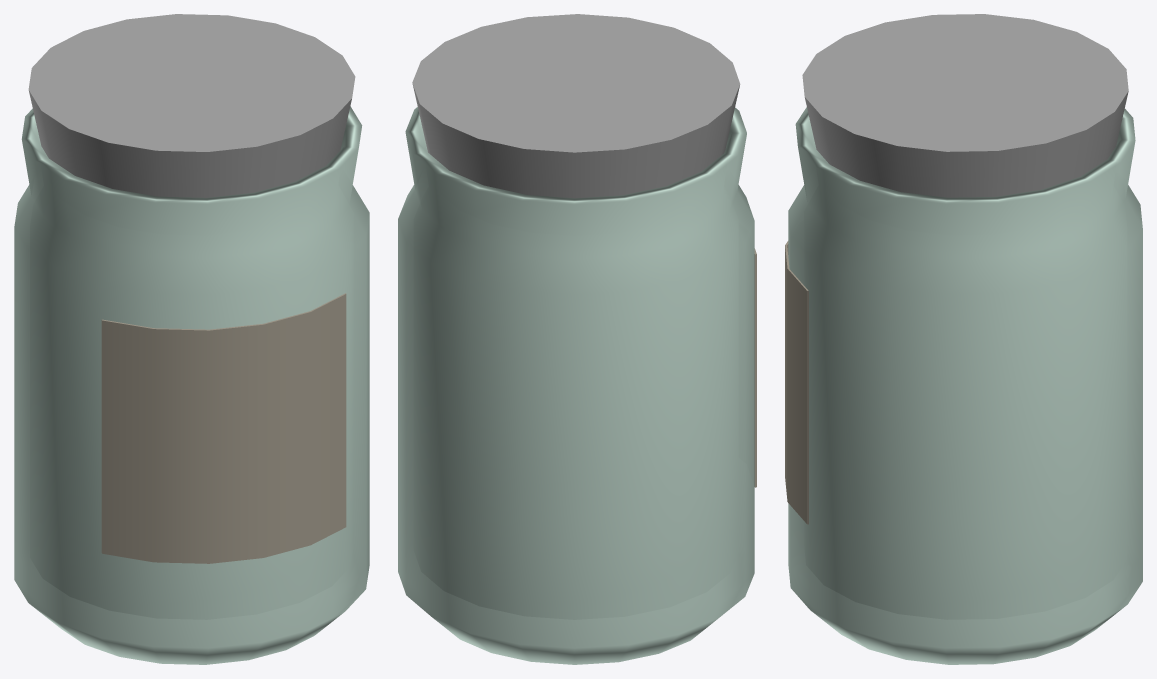
File: Jar_Label_02_Closed.fbx
3 views of the same model, side by side, from view 1: azimuth 30°, elevation 25°; view 2: azimuth 150°, elevation 25°; view 3: azimuth 270°, elevation 25° (orthographic).
Parts seen in each view (by area): view 1: pCylinder42; view 2: pCylinder42; view 3: pCylinder42.
Part boxes in pixels (<box>): pCylinder42: <box>14,14,369,664</box>; pCylinder42: <box>398,14,756,664</box>; pCylinder42: <box>785,14,1142,664</box>.
Bounding box in the file's own units: 5.52 × 8.98 × 5.57.
